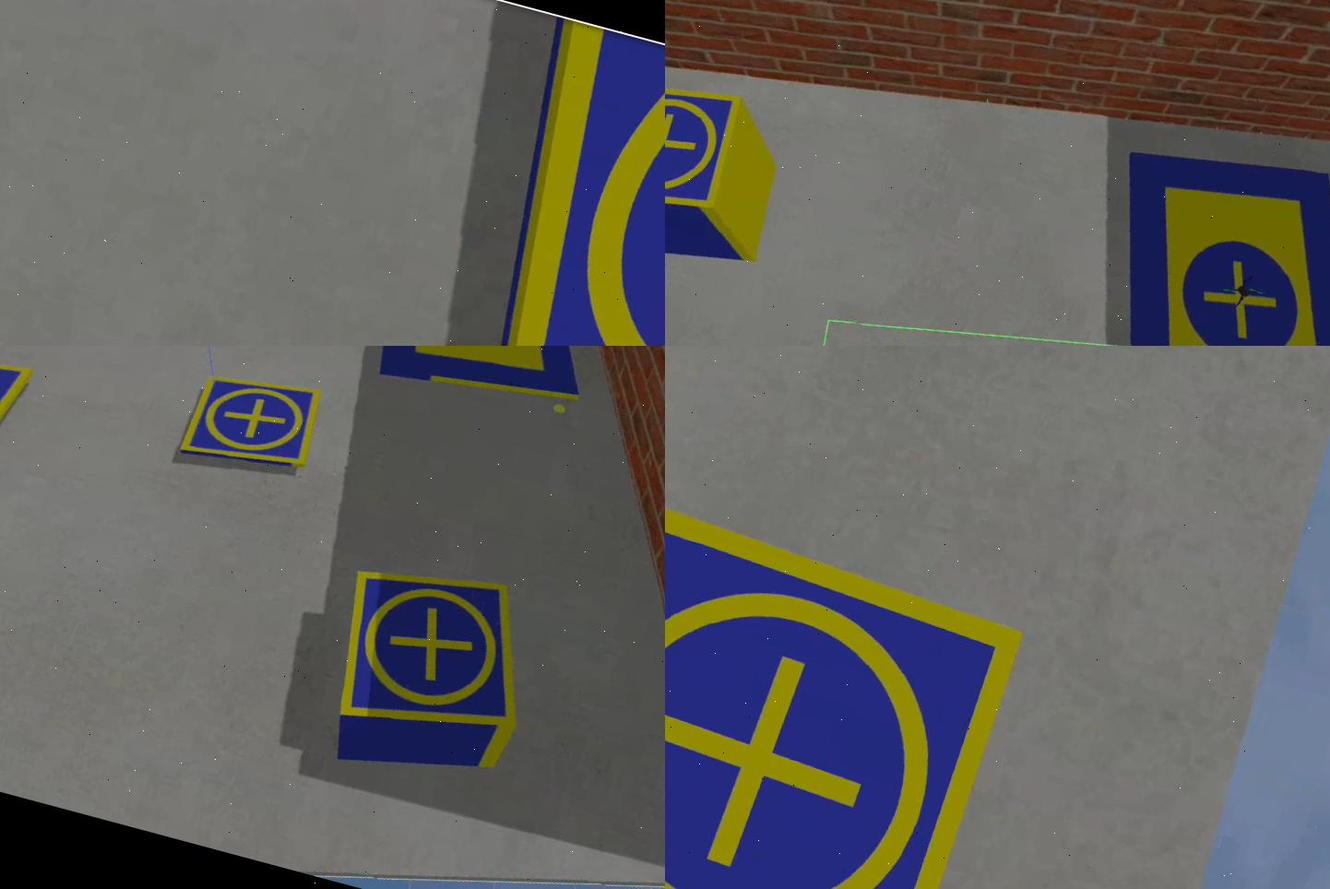large_base: (1053, 123, 1330, 347), (358, 347, 614, 429)
small_base: (666, 477, 1039, 889), (439, 17, 666, 347), (322, 548, 554, 763), (180, 361, 326, 486), (666, 64, 748, 239), (1, 359, 31, 469)
